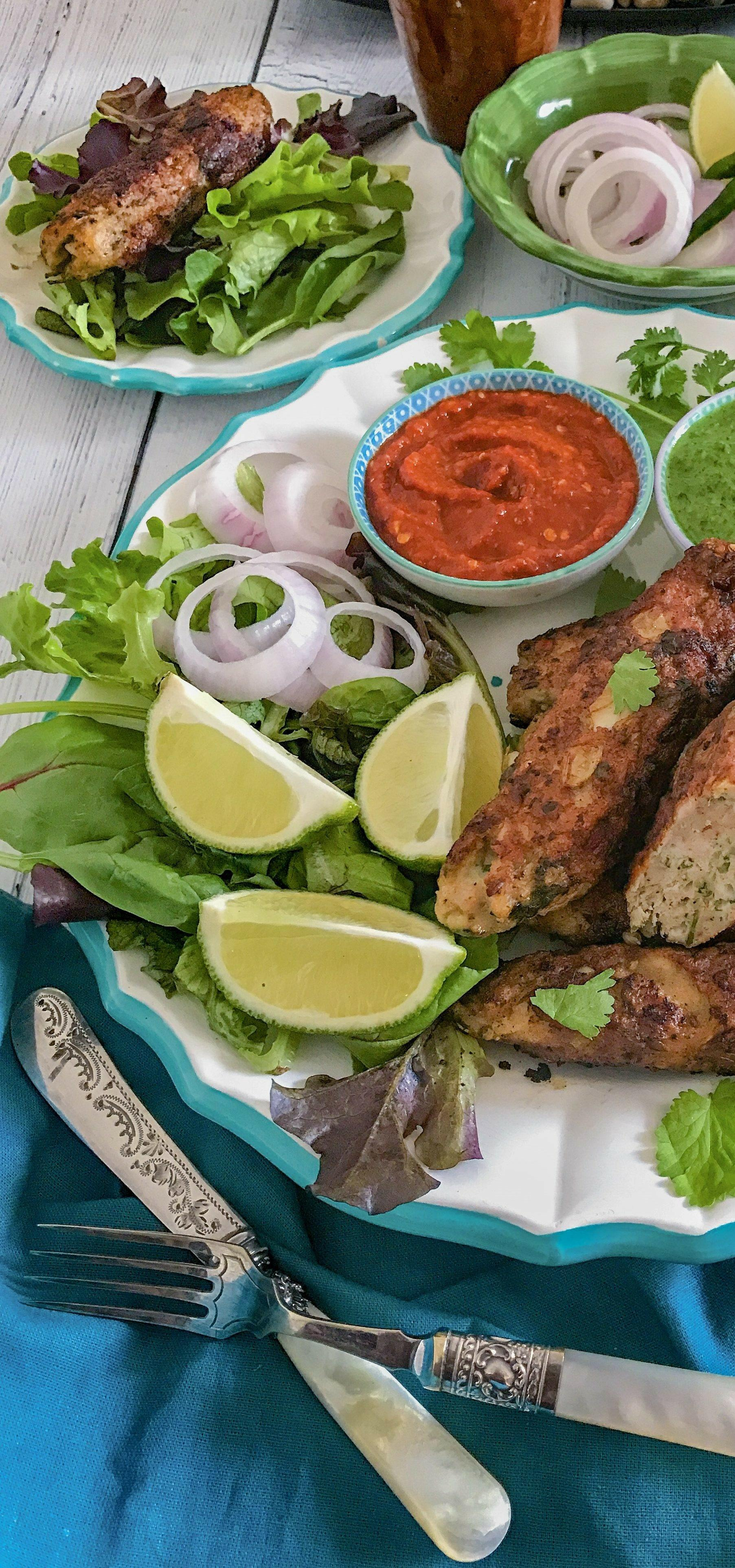Kebab: (434, 538, 735, 937), (40, 86, 273, 278), (455, 942, 735, 1075), (626, 699, 735, 947), (507, 605, 629, 729)
